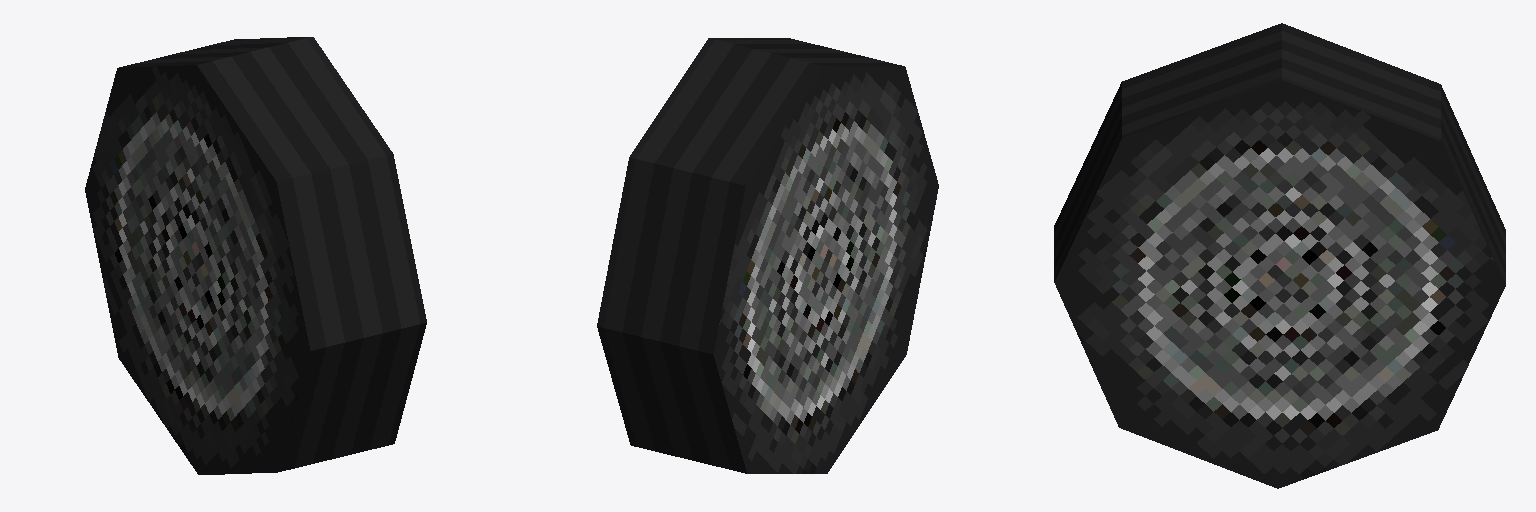
3 views of the same model, side by side, from view 1: azimuth 30°, elevation 25°; view 2: azimuth 150°, elevation 25°; view 3: azimuth 270°, elevation 25° (orthographic).
Visible parts, largest first — view 1: Wheel; view 2: Wheel; view 3: Wheel.
Part boxes in pixels (x1,y1,x2,y2): Wheel: (85,37,426,474); Wheel: (597,38,938,473); Wheel: (1054,23,1505,488).
Size of the model in its own units: 0.2736 by 0.9172 by 0.9172.
Materials: 1 (1 with a texture image).